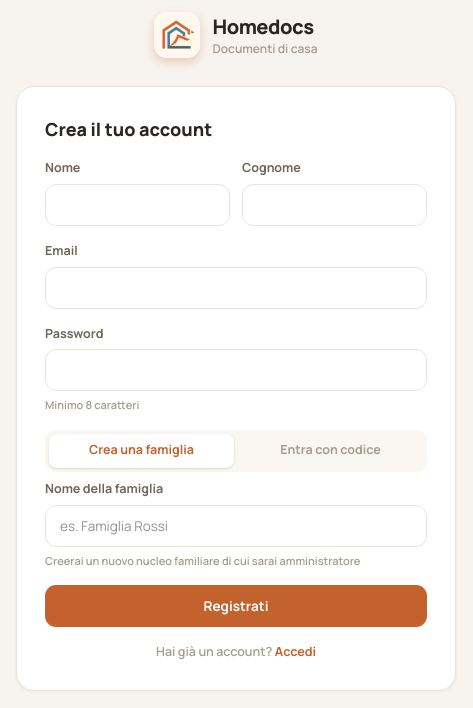
Test: RegisterView — toggle crea famiglia / entra con codice › torna a "Nome della famiglia" ricliccando "Crea una famiglia"
This screenshot has width=473, height=708.
Click the button "Entra con codice".
click(330, 451)  # box [238,434,423,468]
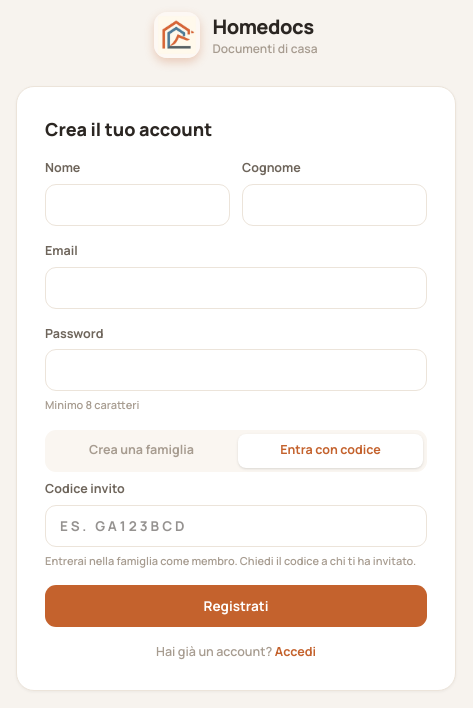
Click the button "Crea una famiglia".
click(142, 451)  # box [49,434,234,468]
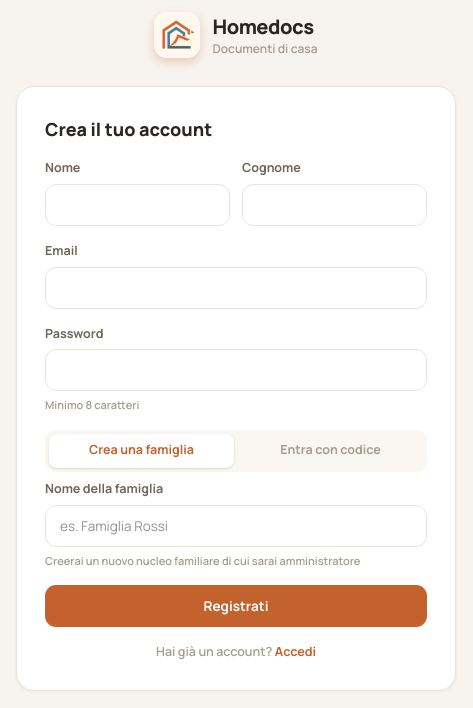
Check: the text "Nome della famiglia" is shown, box [45,480,163,497]
Check: the text "Codice invito" is gone
